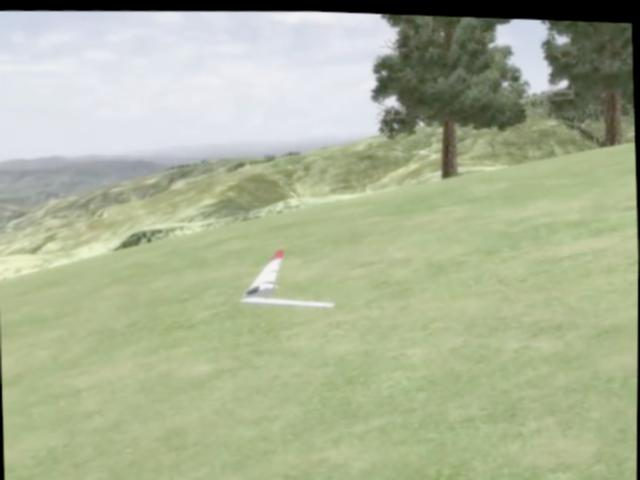flying wing: (237, 241, 336, 314)
